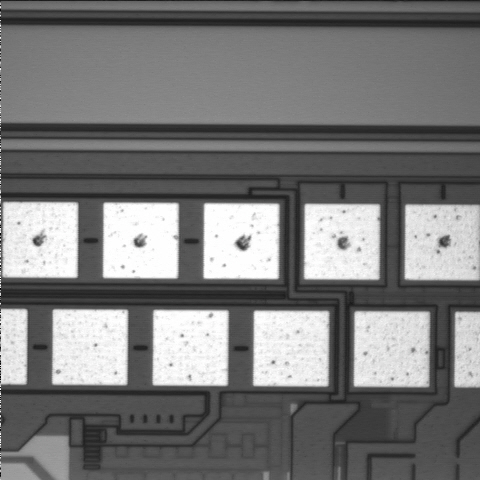pad: (2, 202, 78, 278), (103, 203, 179, 279), (203, 203, 279, 279), (304, 204, 380, 280), (52, 309, 128, 385), (153, 310, 228, 386), (253, 311, 329, 386), (354, 311, 429, 387)
